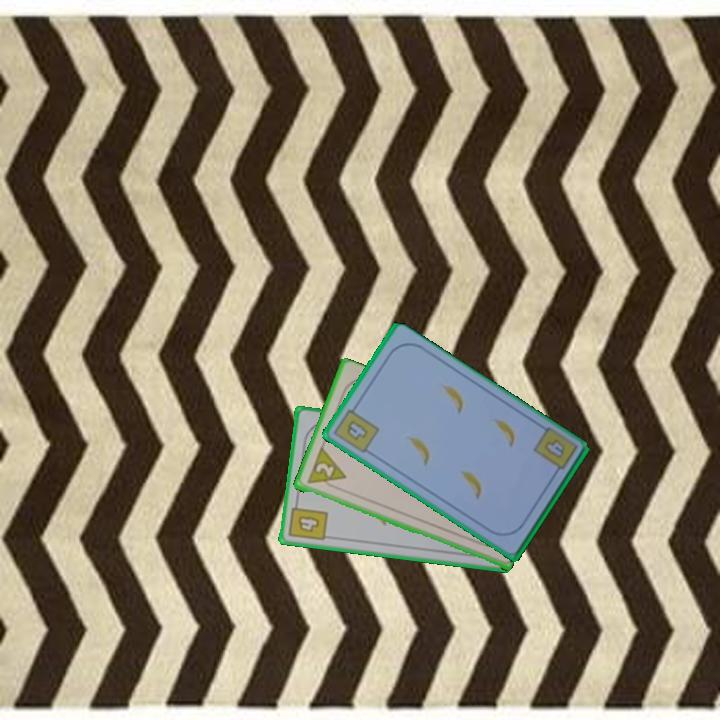2p: (303, 445, 349, 492)
4b: (330, 401, 382, 456), (285, 497, 331, 544), (540, 436, 568, 462)
